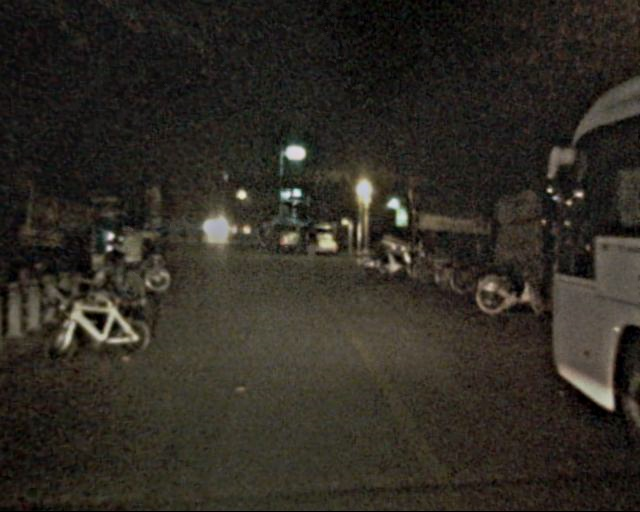person: (115, 216, 150, 301), (303, 223, 320, 264), (253, 223, 267, 258)
